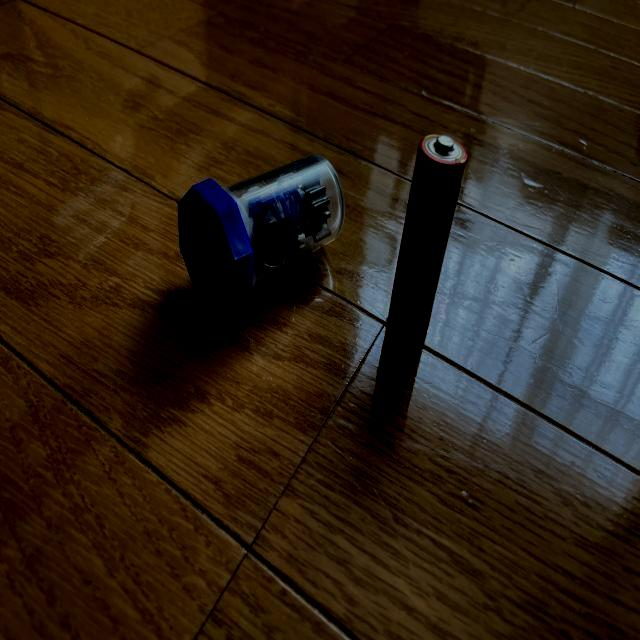AAA: (386, 131, 468, 345)
